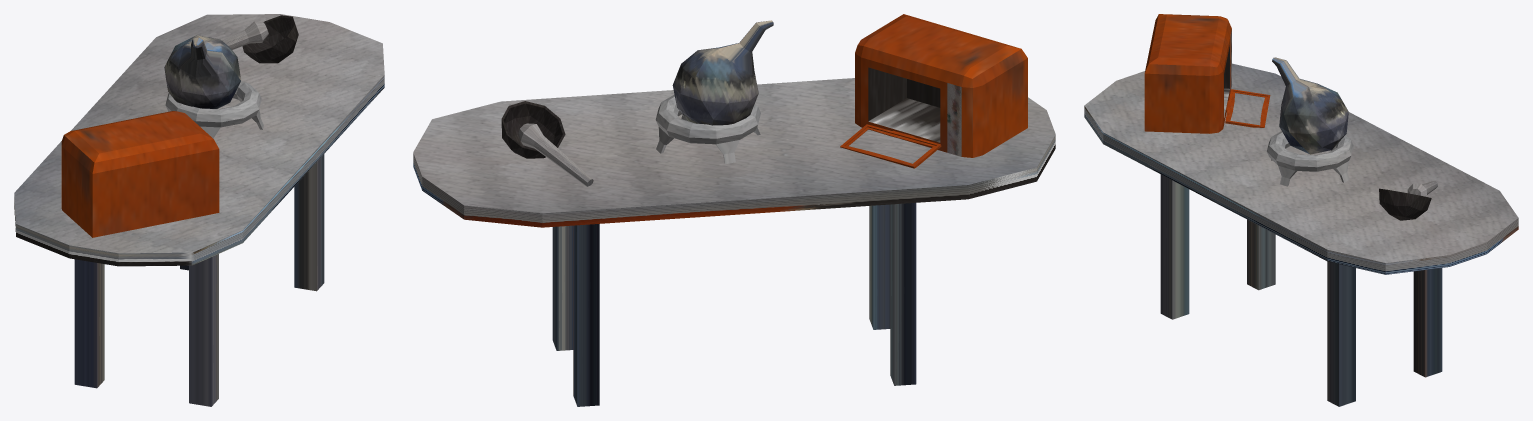
Rendered from crafting_table.glb.
3 views of the same model, side by side, from view 1: azimuth 30°, elevation 25°; view 2: azimuth 150°, elevation 25°; view 3: azimuth 270°, elevation 25° (orthographic). The views are drawn at different scales.
Visible parts, largest first — view 1: Cube.010; view 2: Cube.010; view 3: Cube.010.
Boxes of the visible parts, x1,y1,x2,y2 form: Cube.010: (14, 14, 384, 406); Cube.010: (413, 14, 1055, 406); Cube.010: (1084, 14, 1518, 406).
Size of the model in its own units: 1.2 by 0.7603 by 1.08.
Materials: 1 (1 with a texture image).
